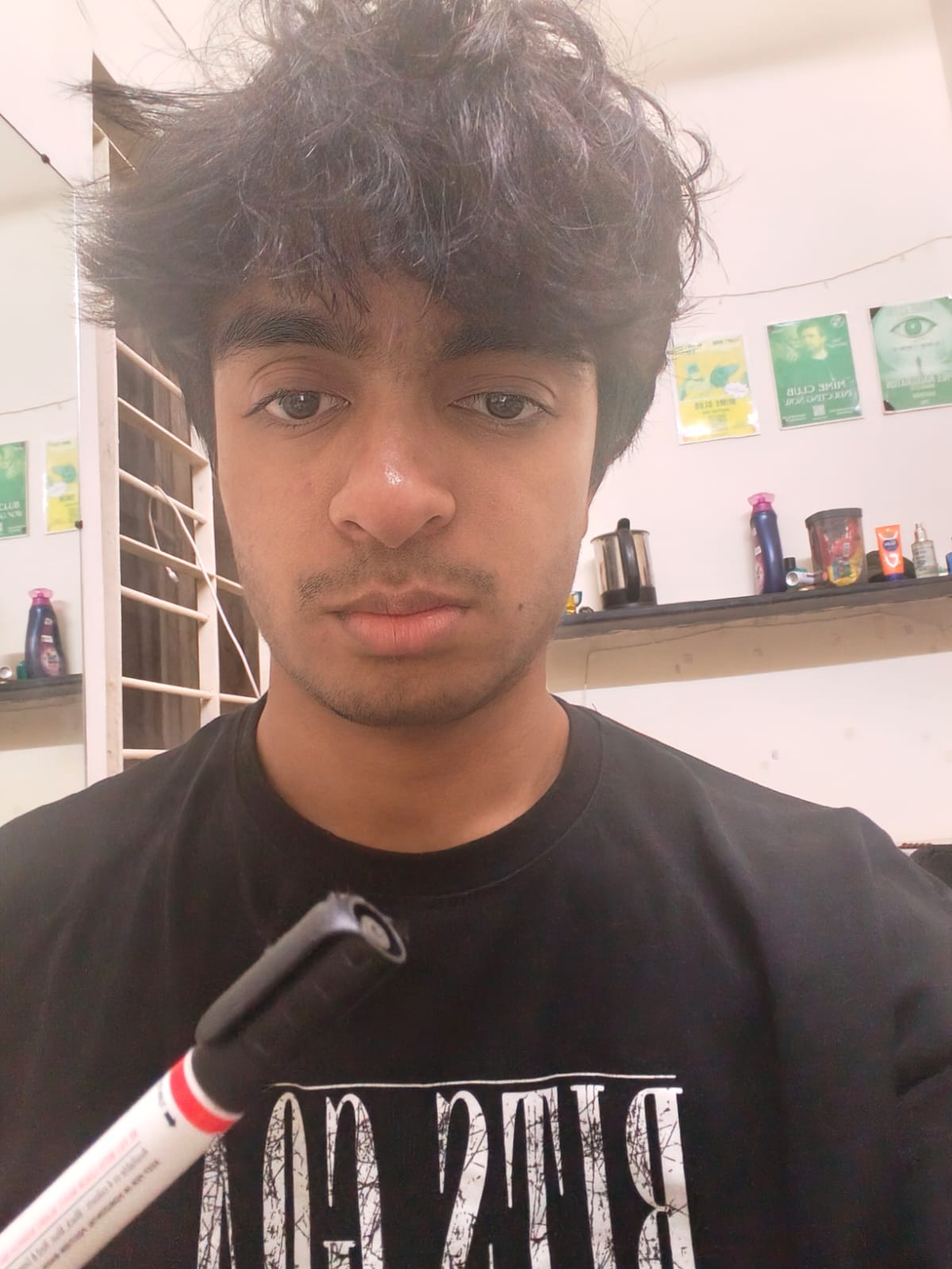case: (2, 879, 437, 1264)
